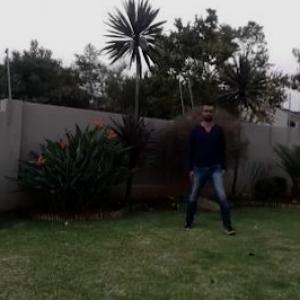follow: (186, 89, 228, 230)
